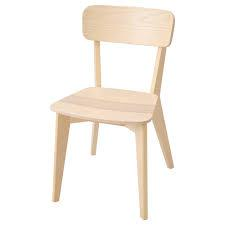chair: (25, 1, 192, 218)
